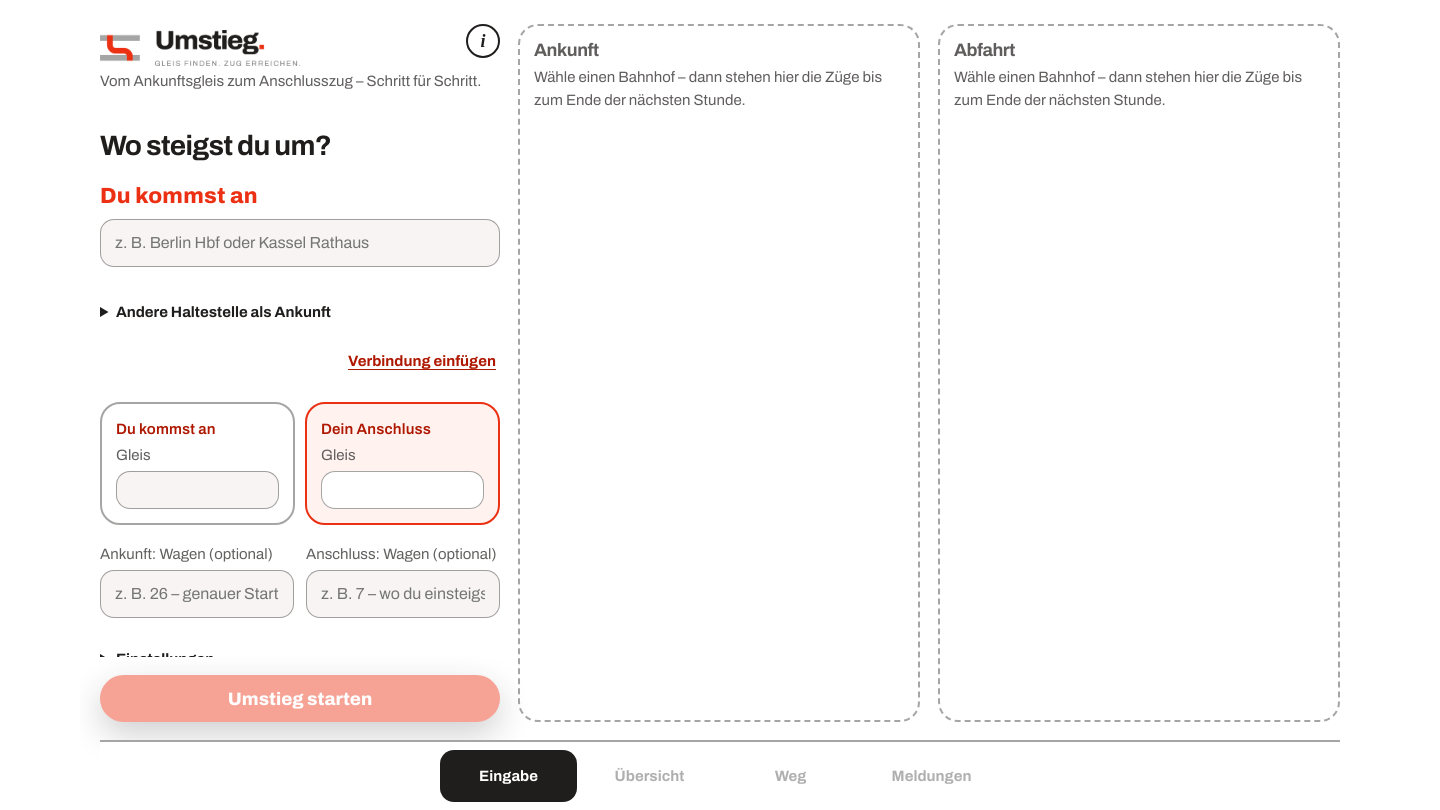
Test: App: Standortwahl am Ankunftsgleis › rechnet zunaechst ab der Bahnsteigmitte
Type "Leip" into the field named "Ankunft: Bahnhof oder Haltestelle".
click(300, 243); type("Leip")  # box [100,219,500,267]
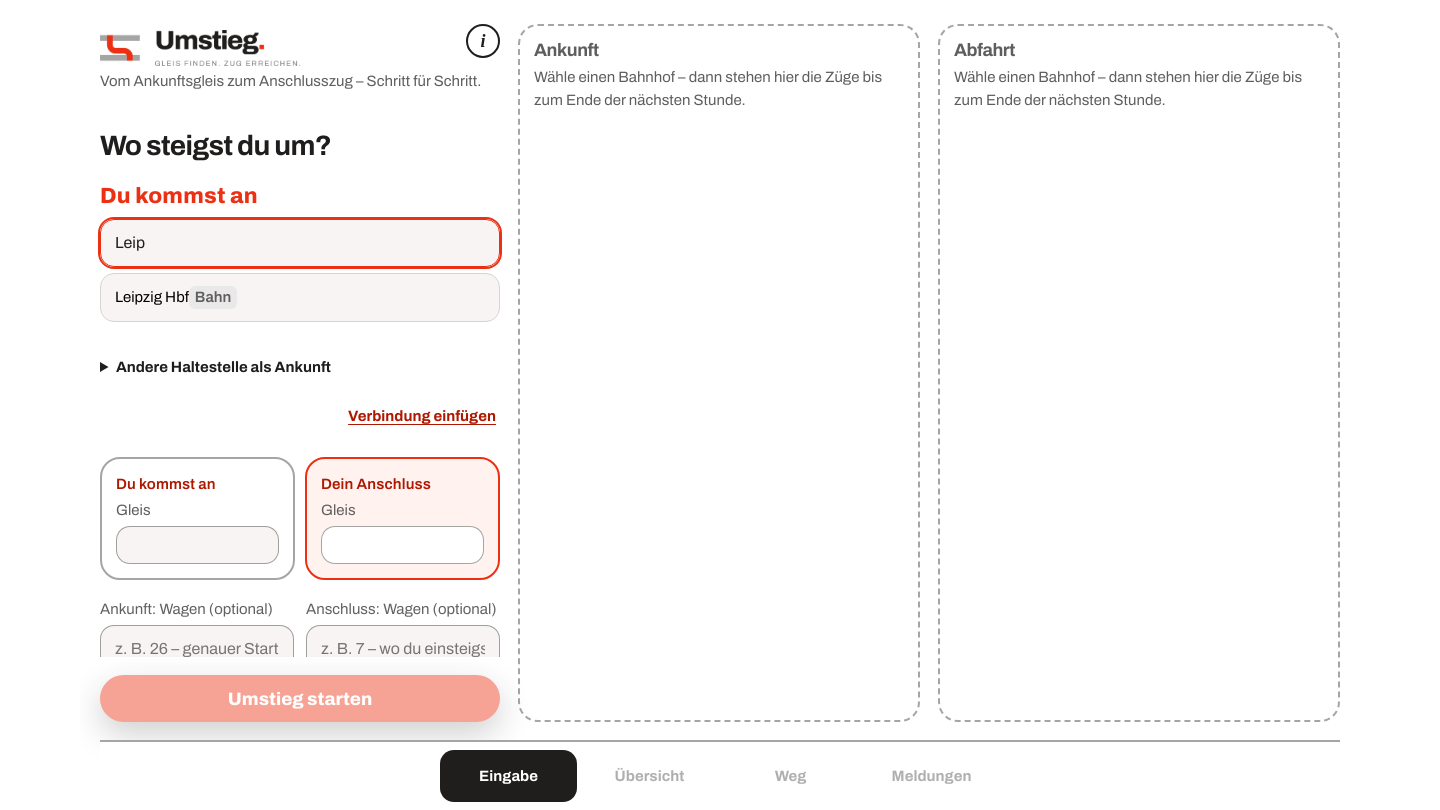
Click the button "Leipzig Hbf Bahn".
click(152, 297)  # box [101,274,499,321]
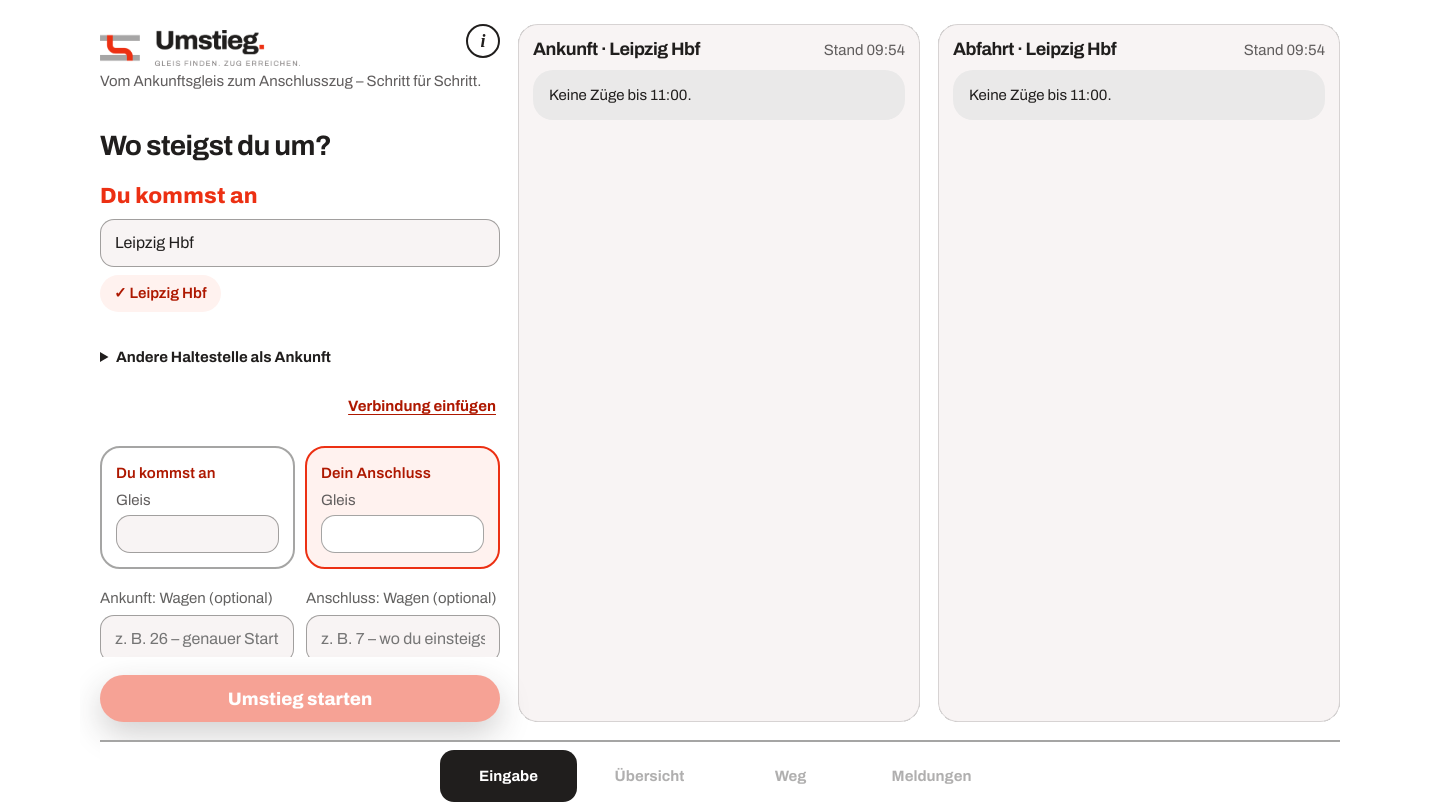
Type "6" into the field named "Ankunft: Gleis".
click(198, 534); type("6")  # box [116,515,279,553]
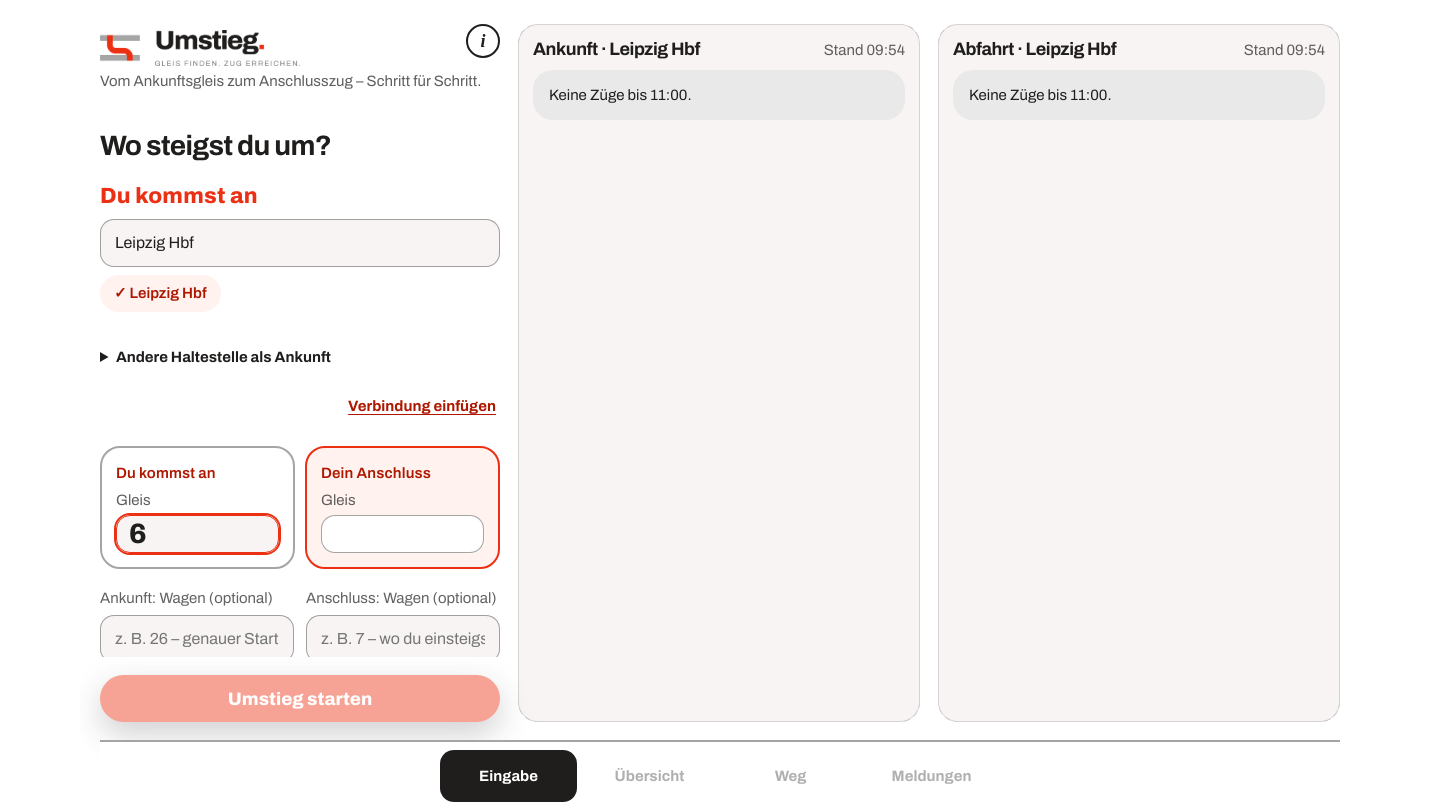
Type "16" into the field named "Anschluss: Gleis".
click(402, 534); type("16")  # box [321,515,484,553]
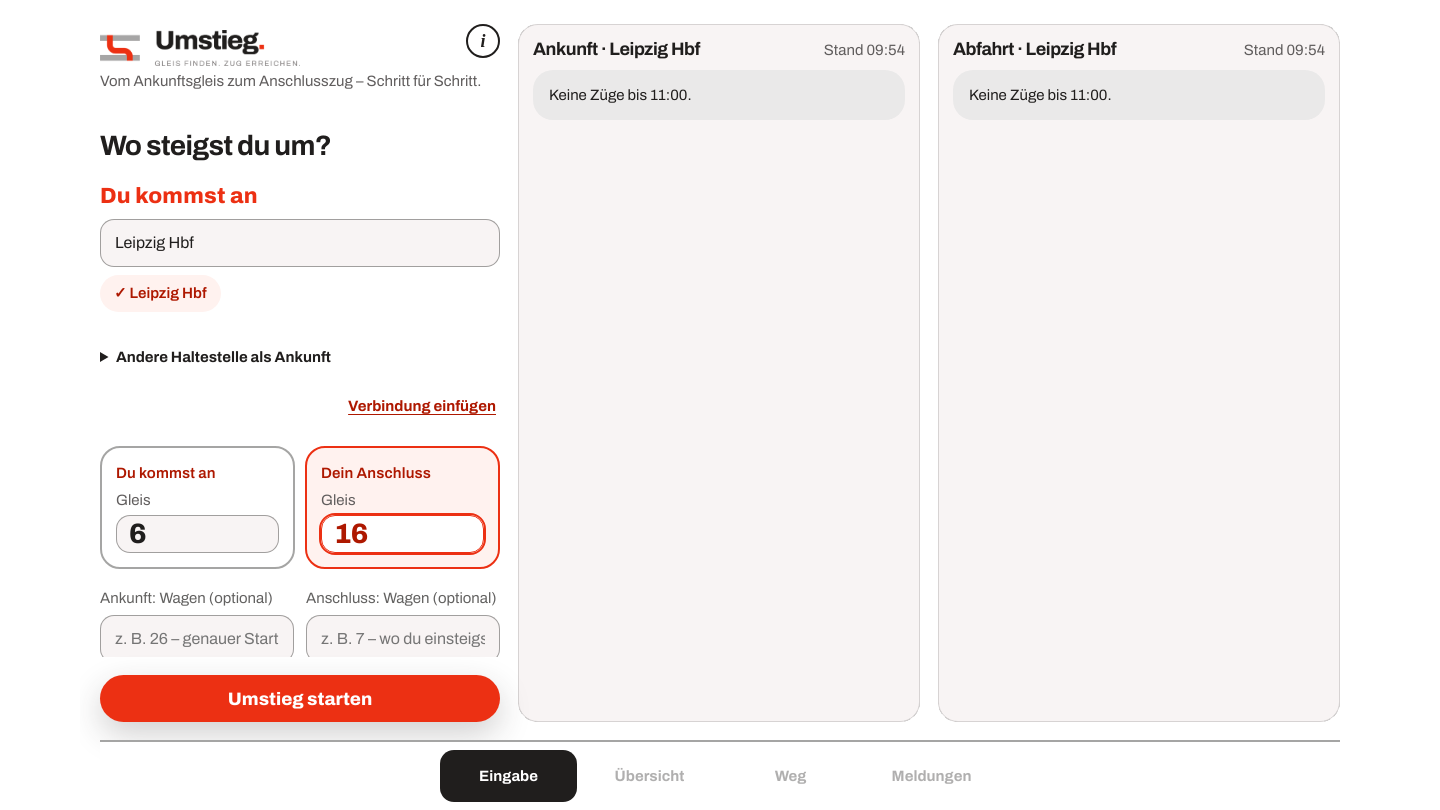
Click the button "Umstieg starten".
click(300, 698)  # box [100,675,500,722]
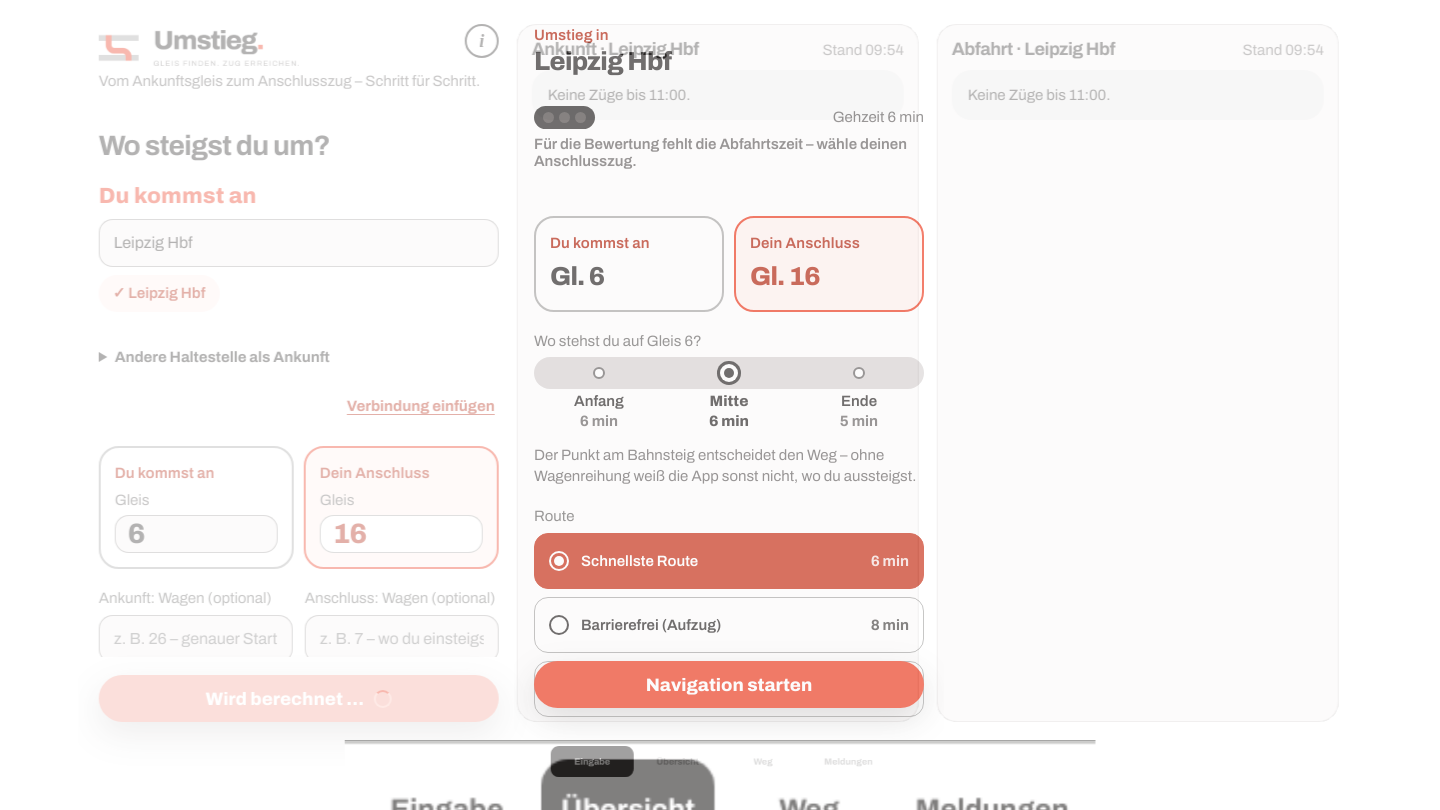
Check: the text "Gehzeit 6 min" is shown, box [824,109,915,125]
